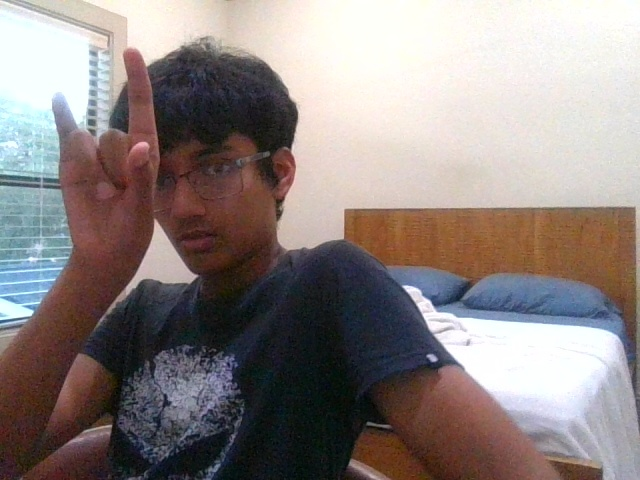ly: (53, 48, 160, 260)
